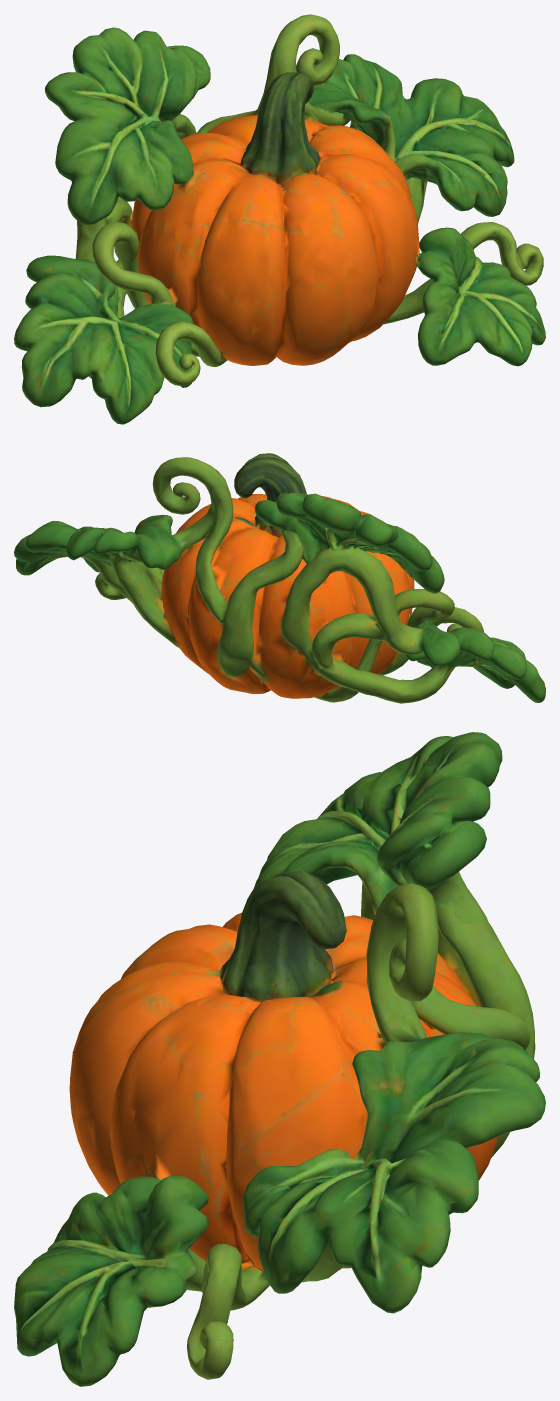
The model's file is pumpkin-mature.glb.
The picture shows the model from 3 angles, top to bottom: view 1: azimuth 30°, elevation 25°; view 2: azimuth 150°, elevation 25°; view 3: azimuth 270°, elevation 25°; orthographic projection. The views are drawn at different scales.
Bounding box in the file's own units: 1.9 × 0.9539 × 1.07.
Materials: 1 (1 with a texture image).
